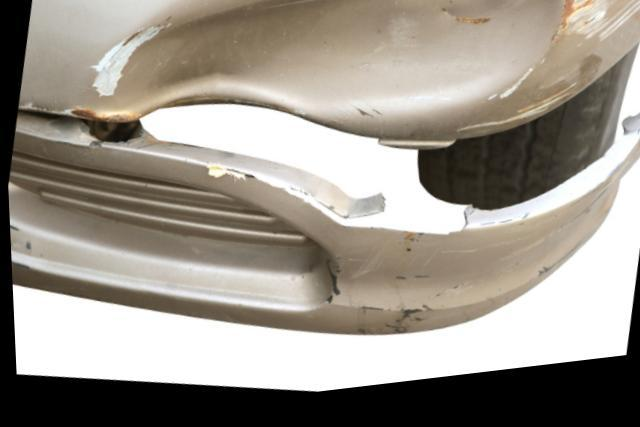crack: (217, 172, 383, 239)
dent: (114, 0, 572, 117)
dislocated part: (6, 75, 640, 345)
scratch: (460, 85, 583, 146), (352, 280, 466, 344), (84, 24, 151, 104)
